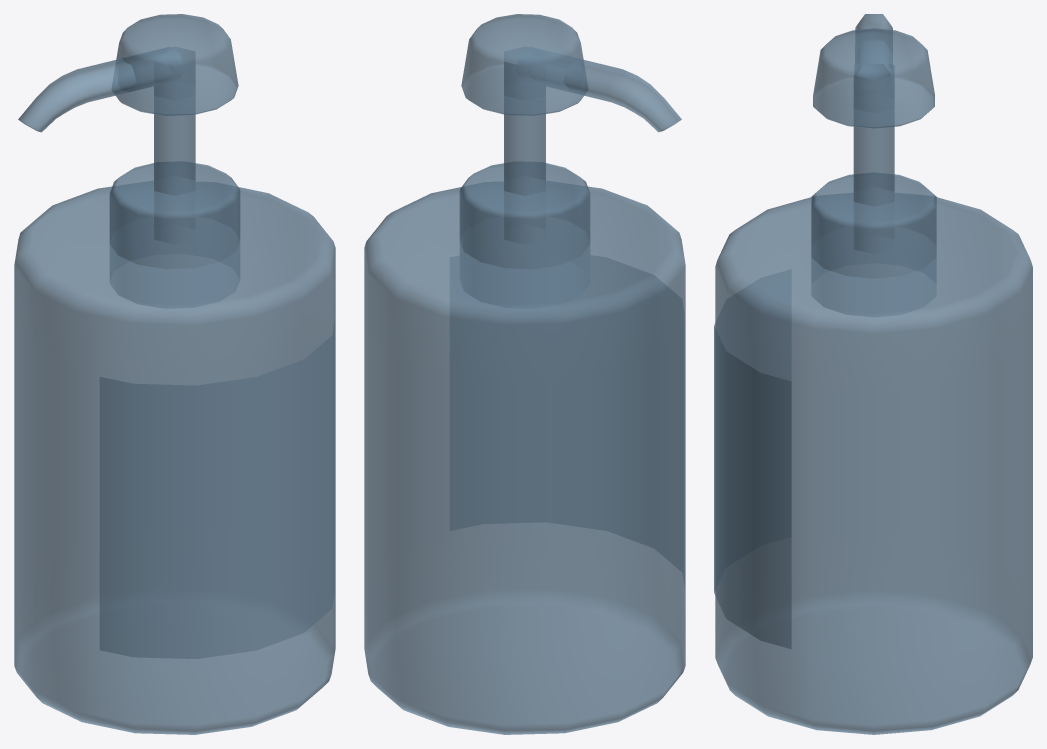
3 renders of one model, left to right at view 1: azimuth 30°, elevation 25°; view 2: azimuth 150°, elevation 25°; view 3: azimuth 270°, elevation 25°, orthographic. The views are drawn at different scales.
Bounding box in the file's own units: 3.06 × 6.36 × 2.93.
